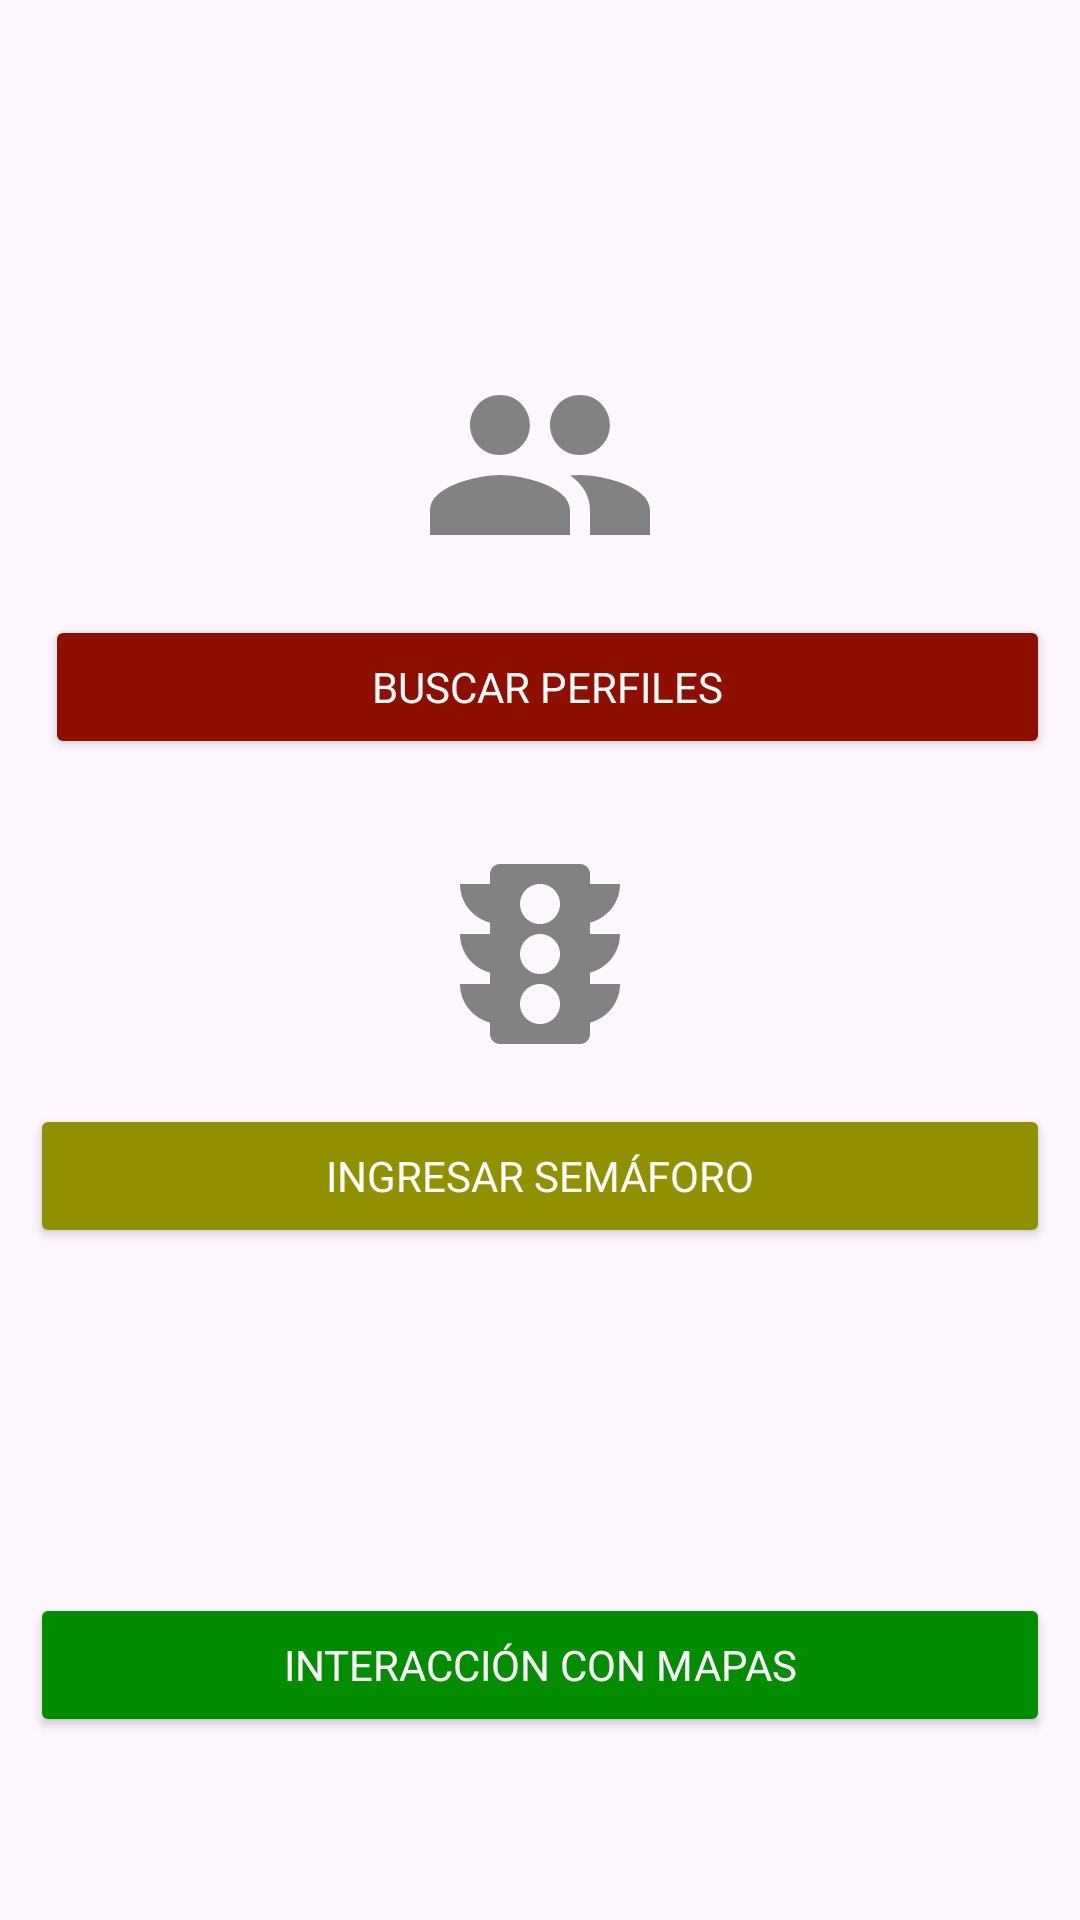

Screen size 1080px×1920px. Icon name, then its center in pixels as (x,y):
iconsemaforo: (540,954)
iconusuarios: (540,465)
